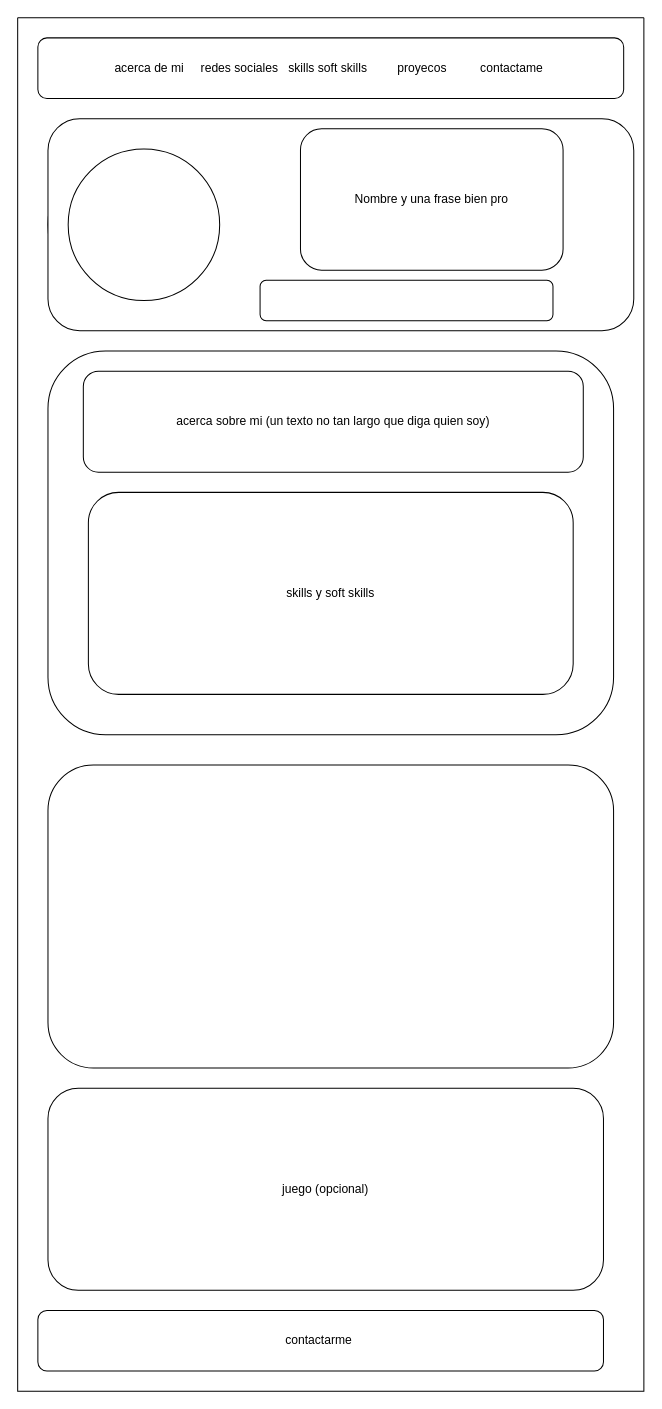
The diagram is 662 pixels wide and 1409 high, and some of its shapes have lost their labels. Each missing label, with the centre of its shape:
"Foto mia jejej" belongs at [143,224].
"proyectos" belongs at [330,916].
"redes sociales logos y eso" belongs at [406,300].
